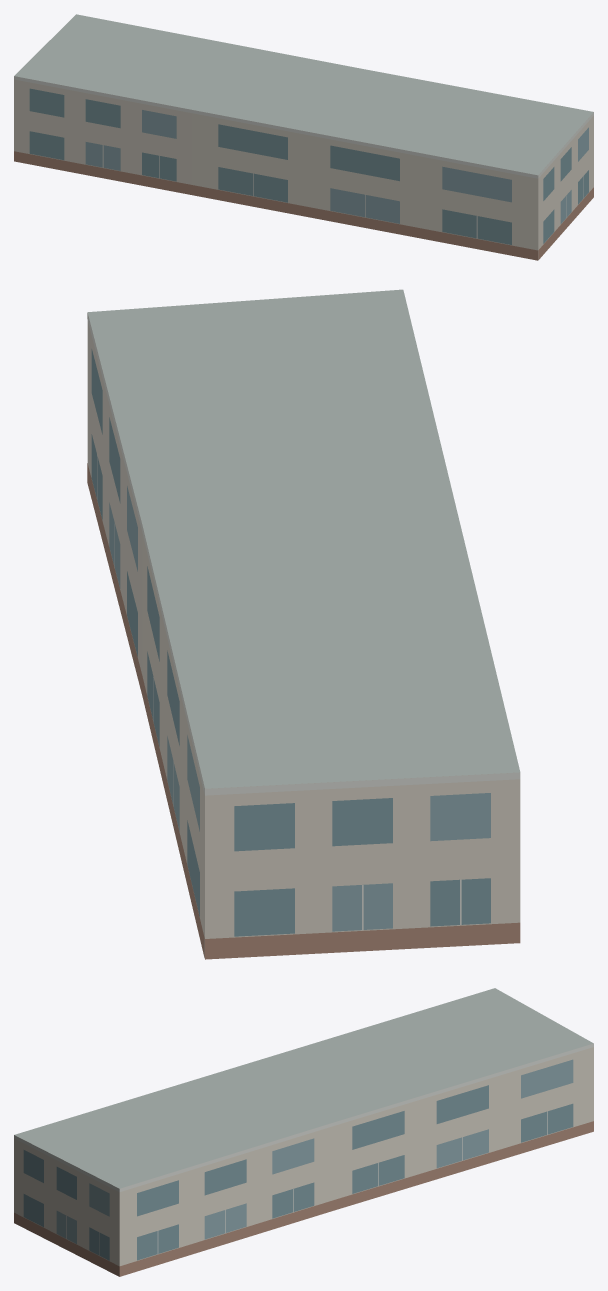
Rendered from survey-upis-32724877.glb.
3 renders of one model, top to bottom at view 1: azimuth 30°, elevation 25°; view 2: azimuth 150°, elevation 25°; view 3: azimuth 270°, elevation 25°, orthographic. The views are drawn at different scales.
Visible parts, largest first — view 1: survey-upis-32724877.tmp; view 2: survey-upis-32724877.tmp; view 3: survey-upis-32724877.tmp.
Boxes of the visible parts, x1=… form: survey-upis-32724877.tmp: x1=14, y1=14, x2=593, y2=260; survey-upis-32724877.tmp: x1=87, y1=289, x2=520, y2=959; survey-upis-32724877.tmp: x1=14, y1=988, x2=593, y2=1276.
Bounding box in the file's own units: 29.8 × 6.1 × 36.37.
